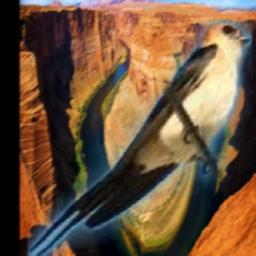Swallow: (28, 21, 252, 256)
